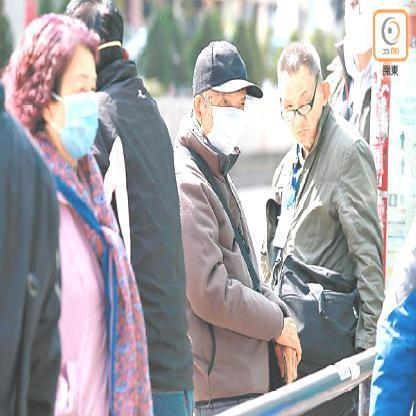with_mask: (28, 10, 107, 164), (190, 39, 260, 159), (342, 0, 374, 56)
without_mask: (274, 35, 336, 151)
